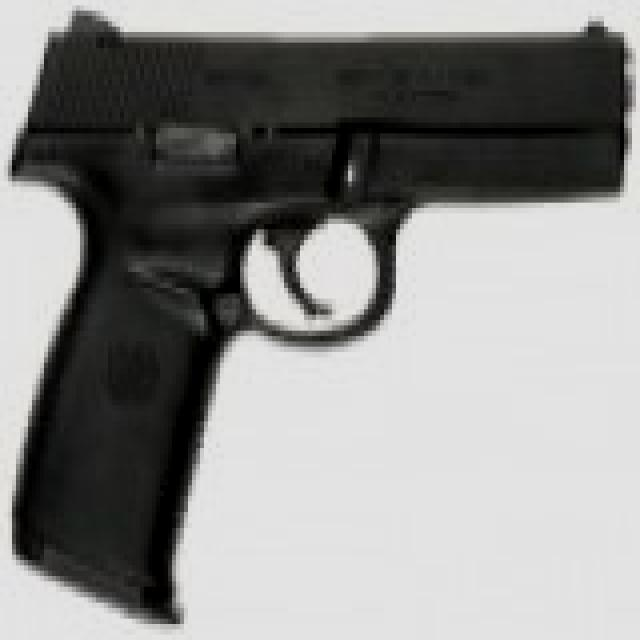pistol: (24, 11, 640, 613)
